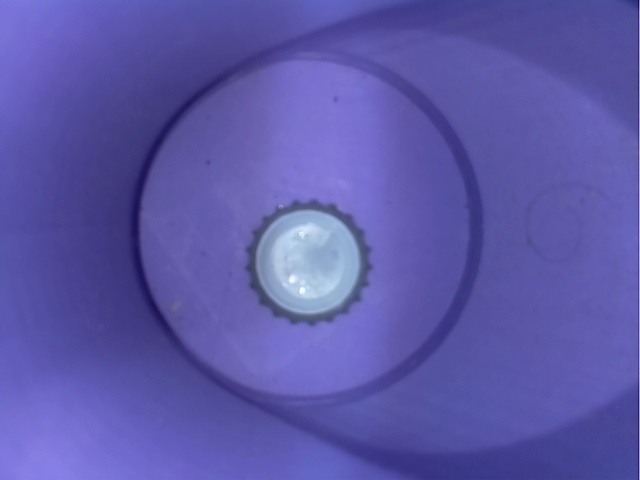capsule: (231, 196, 390, 330)
